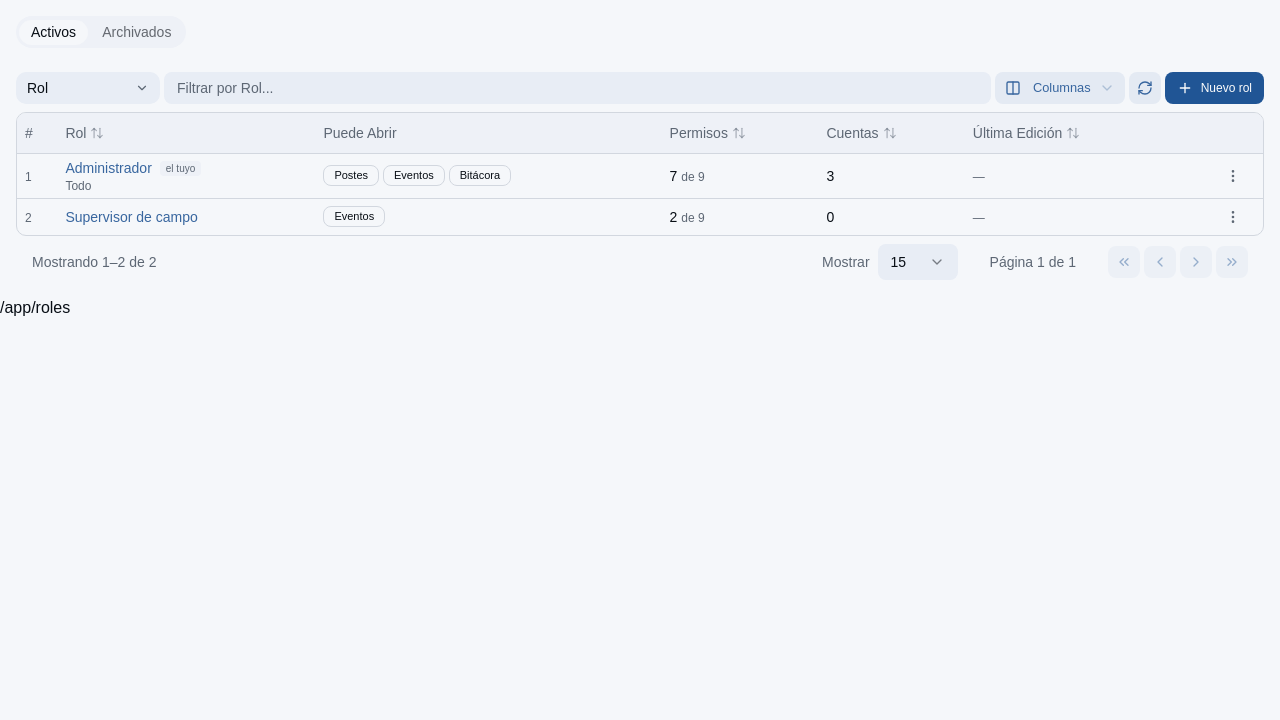
Test case: archiving a role › does not open the role it is archiving
The width and height of the screenshot is (1280, 720).
Expected: the button "Supervisor de campo" is shown, [65, 206, 198, 226]
Click the button named "Acciones de Supervisor de campo" at (1233, 216), box [1219, 202, 1247, 230]
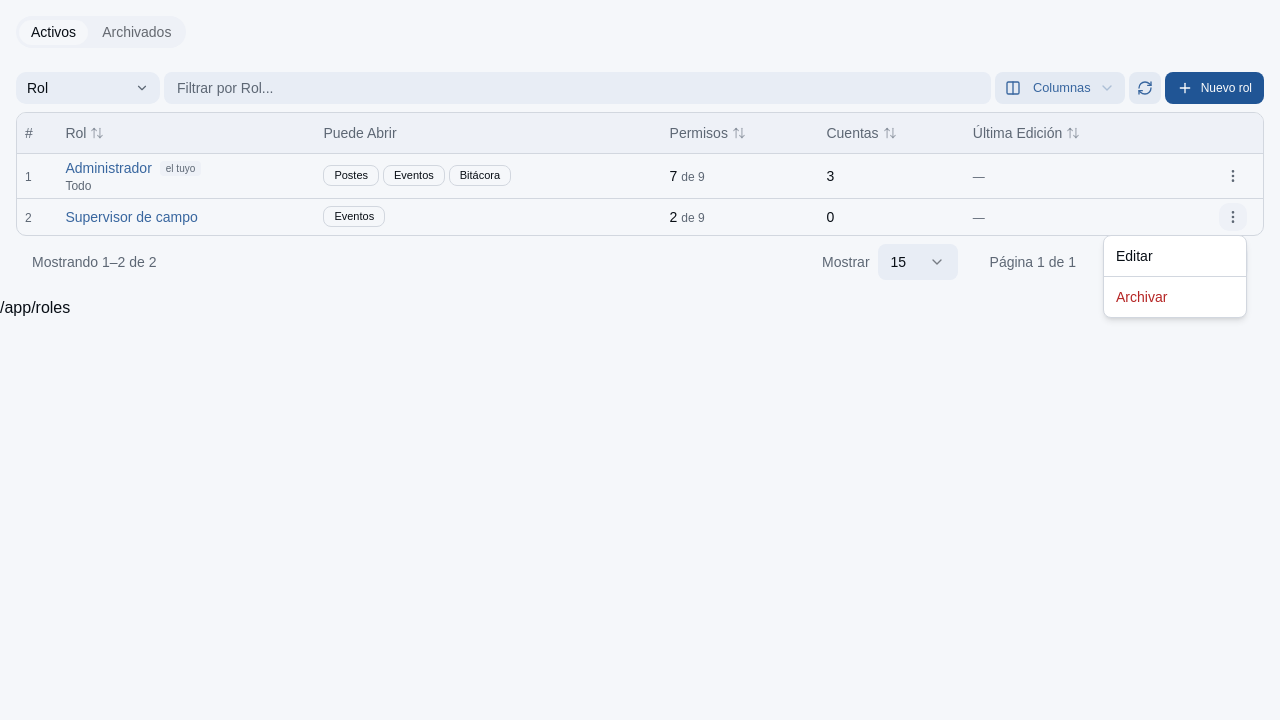
Click the menu item "Archivar" at (1142, 297), box [1116, 289, 1167, 305]
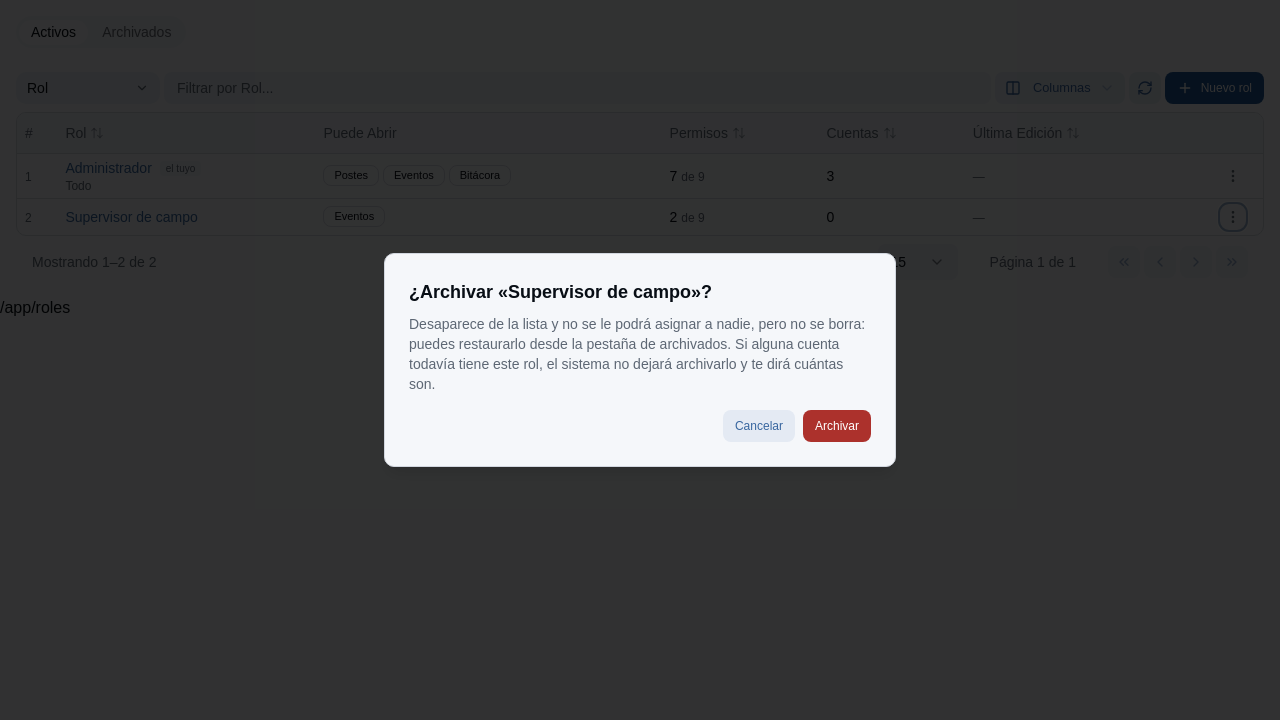
Expected: the dialog is shown, [384, 253, 896, 467]
